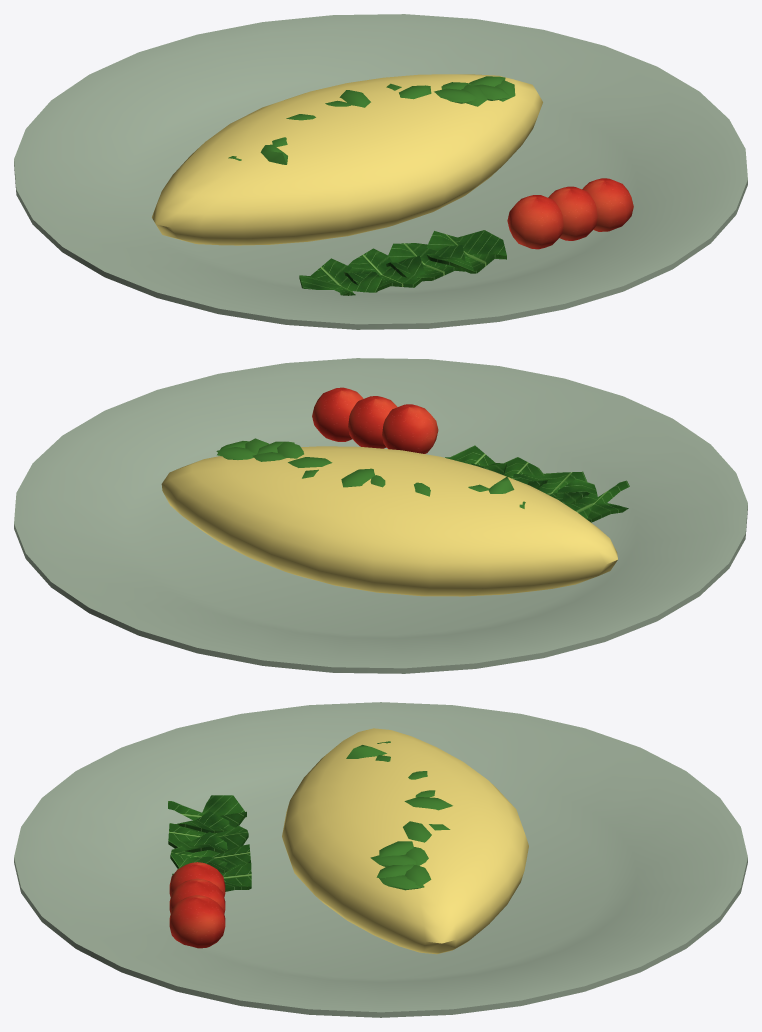
File: meal_omelette_plate.glb
The picture shows the model from 3 angles, top to bottom: view 1: azimuth 30°, elevation 25°; view 2: azimuth 150°, elevation 25°; view 3: azimuth 270°, elevation 25°; orthographic projection.
Parts seen in each view (by area): view 1: meal_omelette_plate; view 2: meal_omelette_plate; view 3: meal_omelette_plate.
Part boxes in pixels (left/top/right/bottom): meal_omelette_plate: left=14, top=14, right=747, bottom=329; meal_omelette_plate: left=14, top=358, right=747, bottom=673; meal_omelette_plate: left=14, top=702, right=747, bottom=1017.
Bounding box in the file's own units: 0.3 × 0.045 × 0.3.
Materials: 5 (2 with a texture image).
